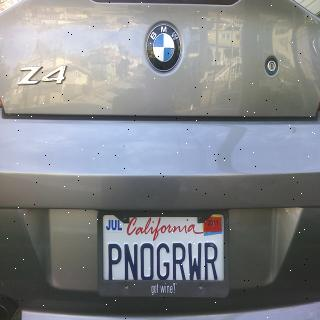license: (101, 212, 230, 301)
